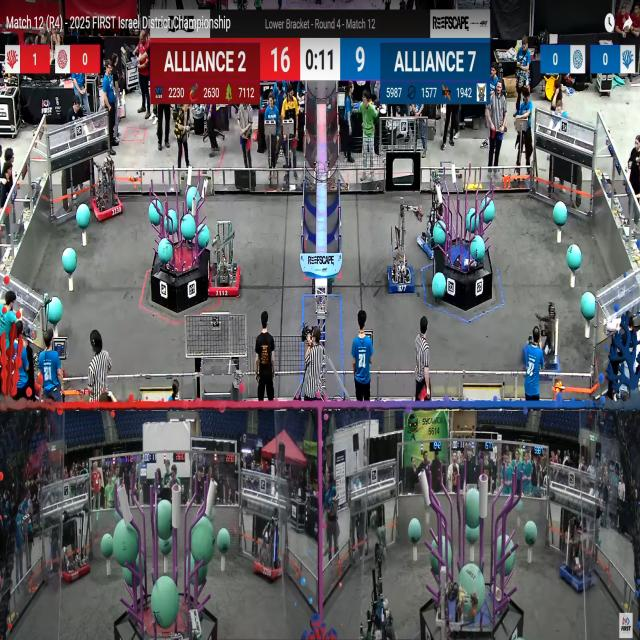Robot-YfA7: (204, 216, 246, 304), (386, 203, 422, 294), (558, 546, 600, 596), (90, 163, 124, 222), (251, 532, 288, 586), (53, 541, 91, 590), (542, 321, 560, 379)
